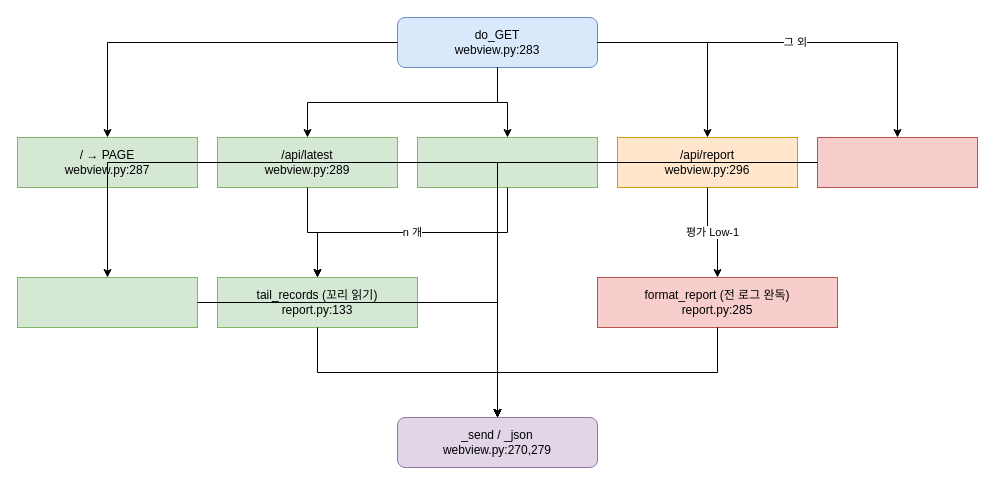
Some shapes in this 995 by 485 pixel diagram are drawn without their labels. The shapes that lost their labels are listed below. From the top down, each one's centre as x and y in pixels, then its label:
At point 507,162: "/api/history webview.py:294".
At point 897,162: "404 webview.py:299".
At point 107,302: "log_span (첫 줄만) report.py:54".
